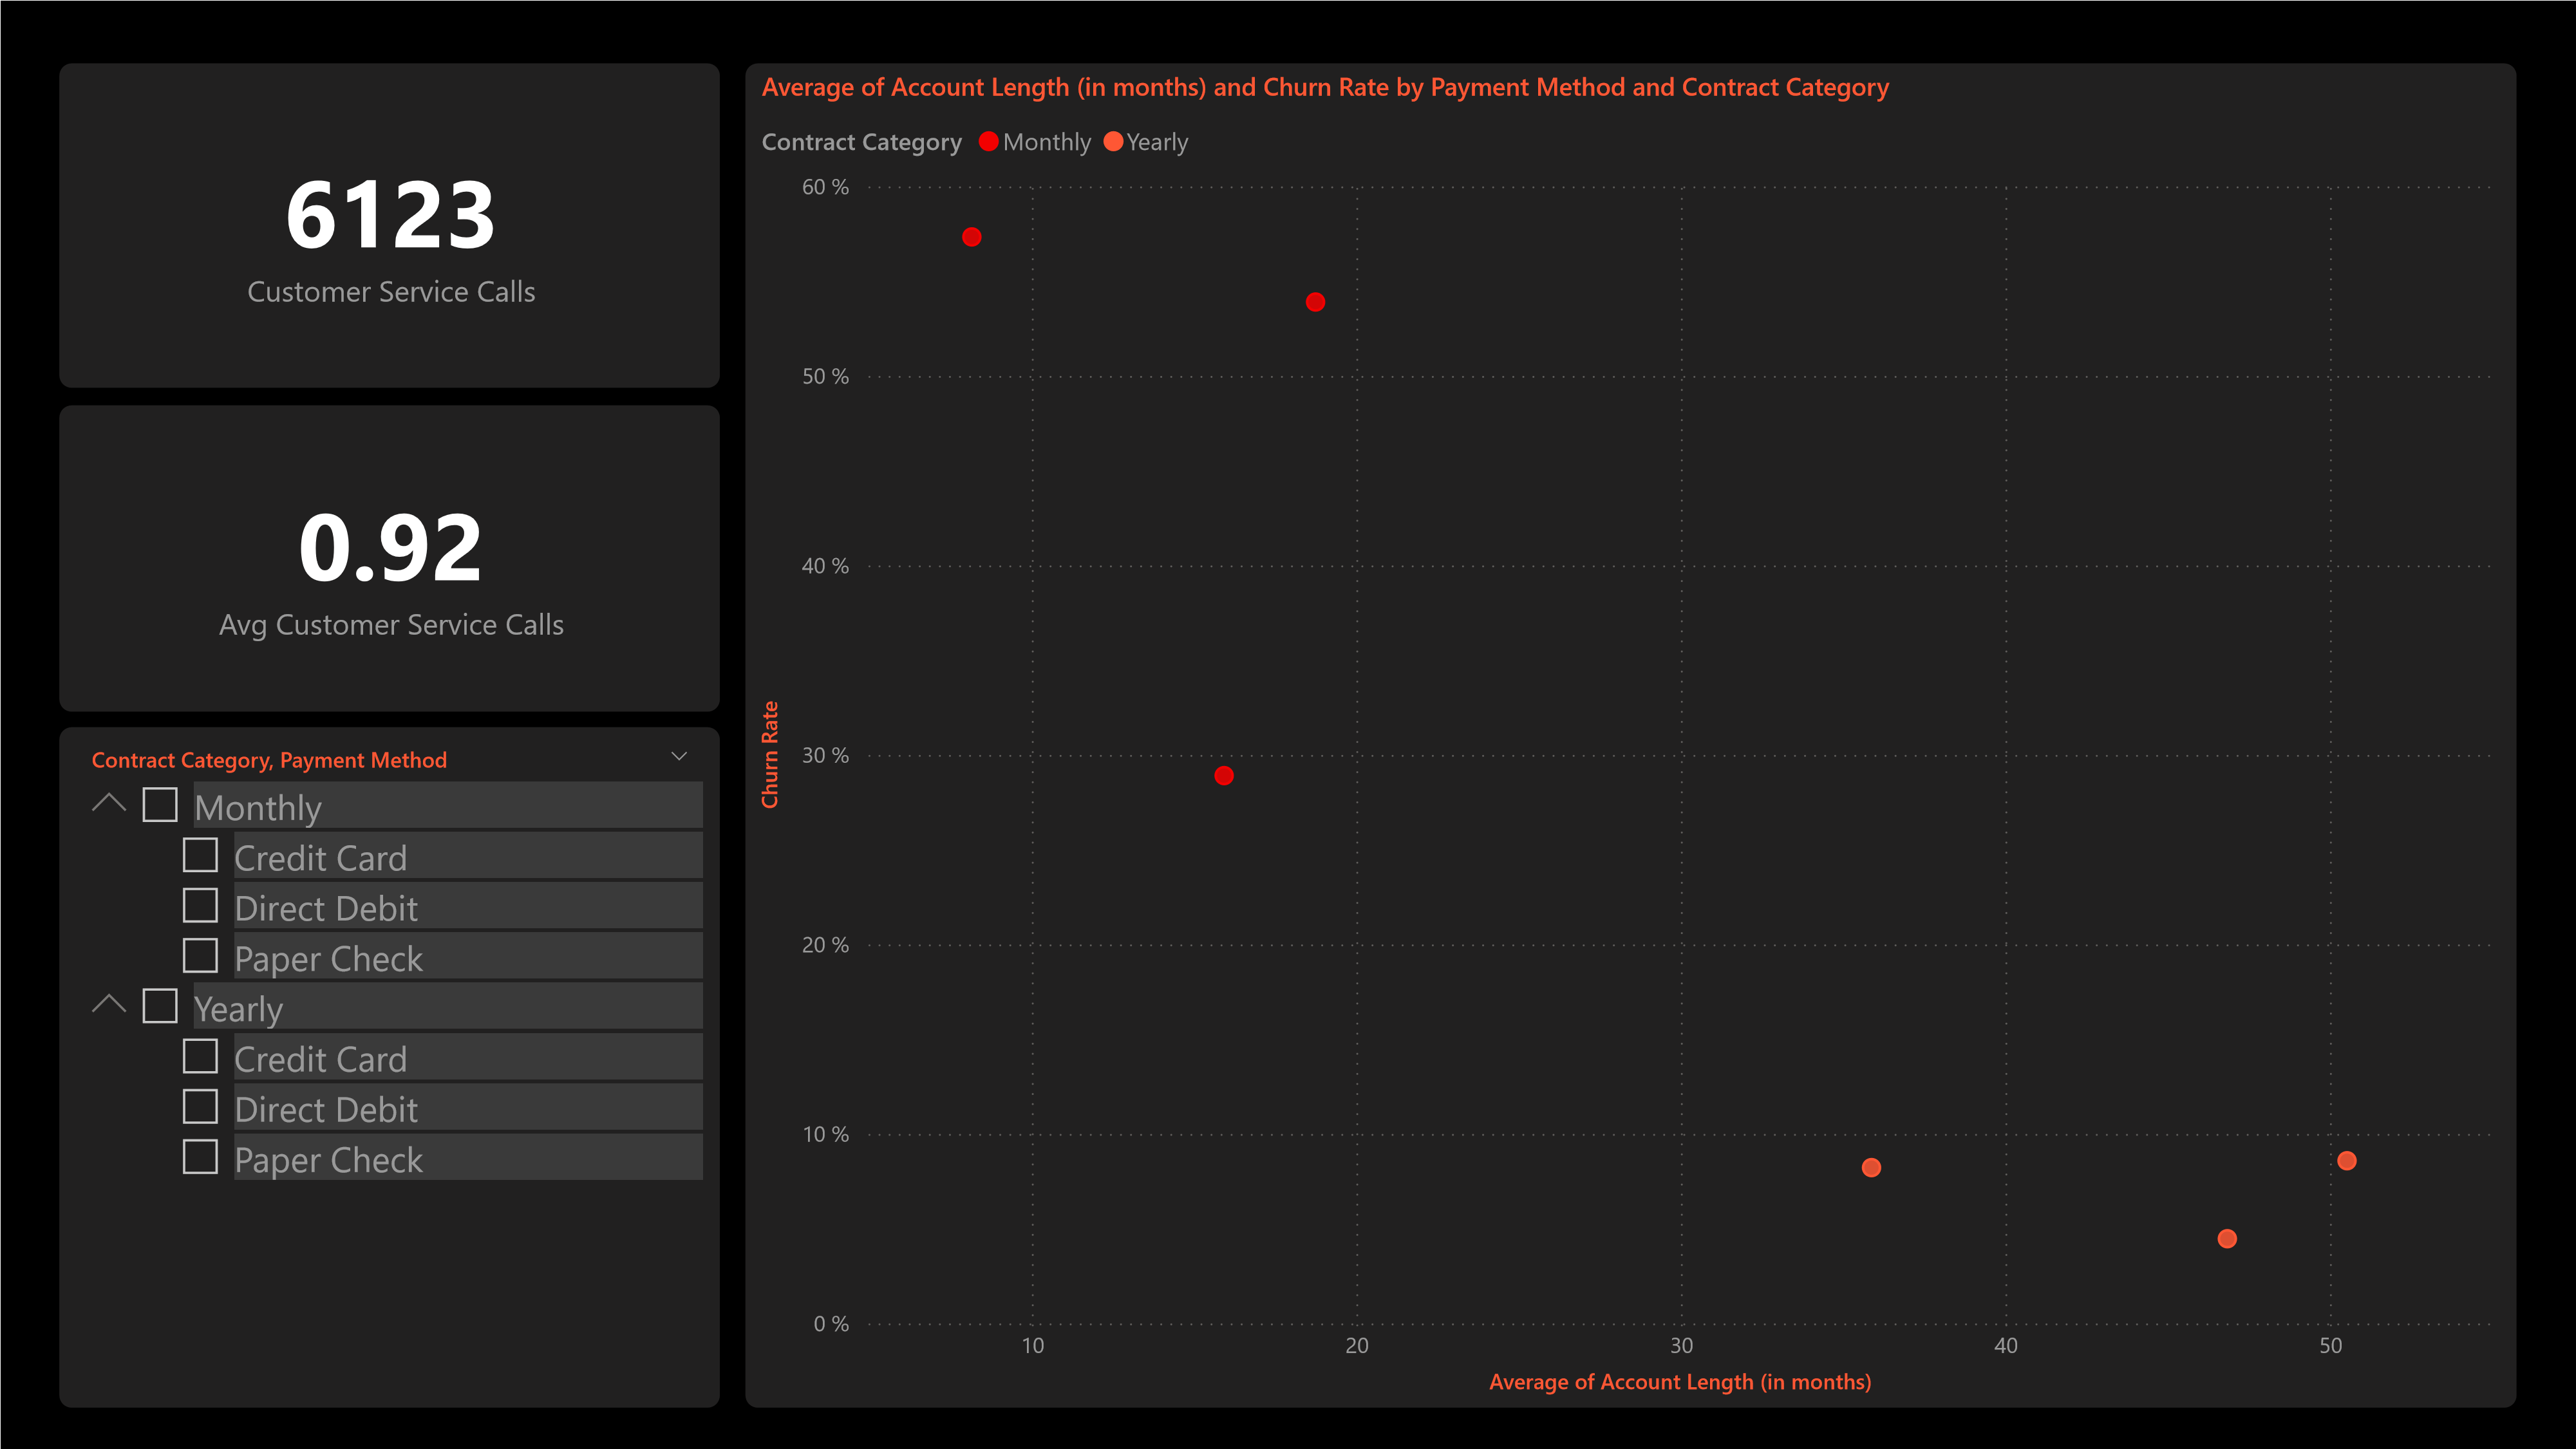

Layout of this report page (visuals, bound fields, positions):
{"tool":"powerbi","page":{"name":"Payment and Contract","canvas":[1280,720],"ordinal":7},"visuals":[{"type":"card","fields":{"Values":["Sum(Databel - Data.Customer Service Calls)"]},"box":[29.4,31.4,328,161],"z":0},{"type":"card","fields":{"Values":["Databel - Data.Avg Customer Service Calls"]},"box":[29.4,201.5,328,151.9],"z":1000},{"type":"scatterChart","fields":{"Y":["Databel - Data.Churn Rate"],"X":["Databel - Data.Account Length (in months)"],"Category":["Databel - Data.Payment Method"],"Series":["Databel - Data.Contract Category"]},"box":[369.6,31.4,880.9,667.2],"z":2000},{"type":"slicer","fields":{"Values":["Databel - Data.Contract Category","Databel - Data.Payment Method"]},"box":[29.4,361.5,328,337.2],"z":3000}]}

Visuals, with their boxes in screenshot pixels (x1, y1, x2, y2), scaled from the page's 1280x720 canvas onto the 2576x1449 screenshot:
card - Sum(Databel - Data.Customer Service Calls): select_region(59, 63, 719, 388)
card - Databel - Data.Avg Customer Service Calls: select_region(59, 406, 719, 711)
scatterChart - Databel - Data.Churn Rate x Databel - Data.Account Length (in months): select_region(744, 63, 2517, 1406)
slicer - Databel - Data.Contract Category x Databel - Data.Payment Method: select_region(59, 727, 719, 1406)
